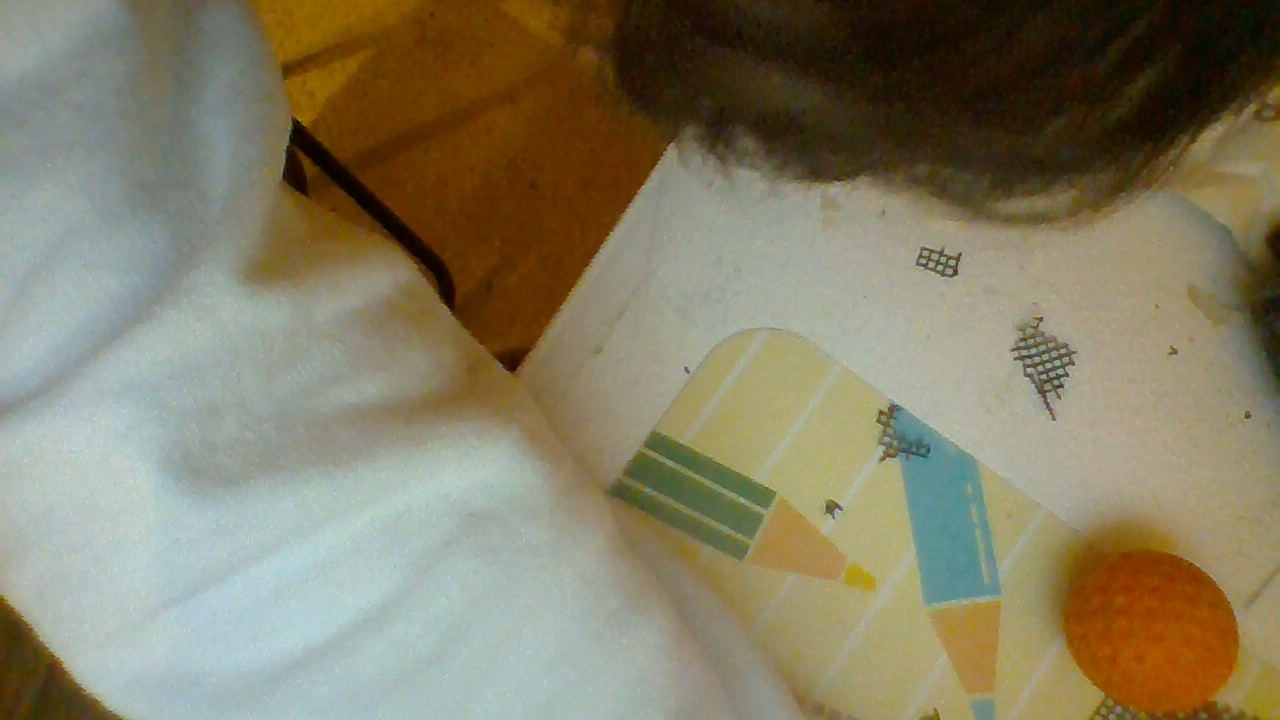ball: (1061, 550, 1239, 713)
